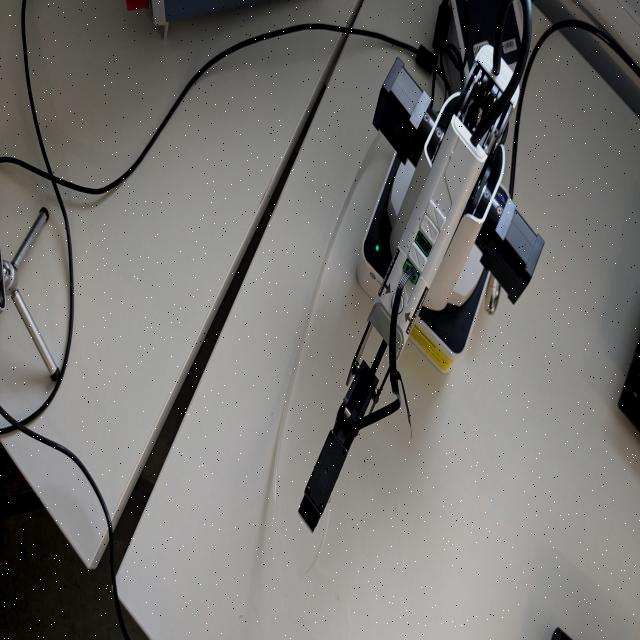Robot-end-effector-HF8z: (295, 425, 351, 537)
